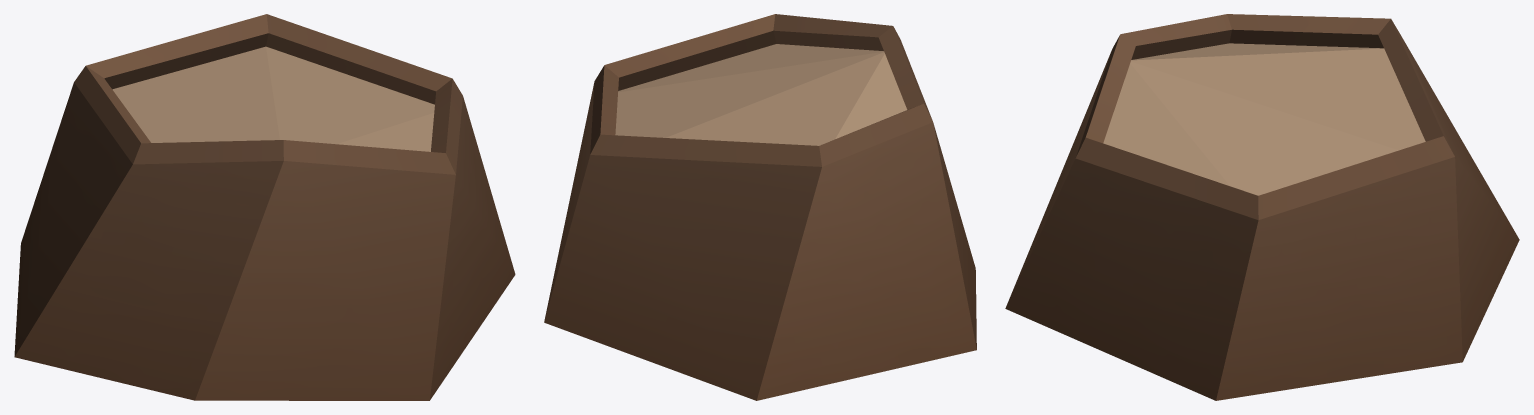
The model's file is stump_spruce.fbx.
3 views of the same model, side by side, from view 1: azimuth 30°, elevation 25°; view 2: azimuth 150°, elevation 25°; view 3: azimuth 270°, elevation 25° (orthographic). The views are drawn at different scales.
Visible parts, largest first — view 1: stump_spruce; view 2: stump_spruce; view 3: stump_spruce.
Boxes of the visible parts, box(x1,y1,x2,y2) form: stump_spruce: box(14, 14, 515, 400); stump_spruce: box(544, 14, 976, 400); stump_spruce: box(1005, 14, 1519, 400).
Bounding box in the file's own units: 1.66 × 0.8229 × 1.65.
Materials: 1 (1 with a texture image).
